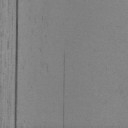surface scratch: (14, 0, 19, 128), (62, 50, 66, 128)
